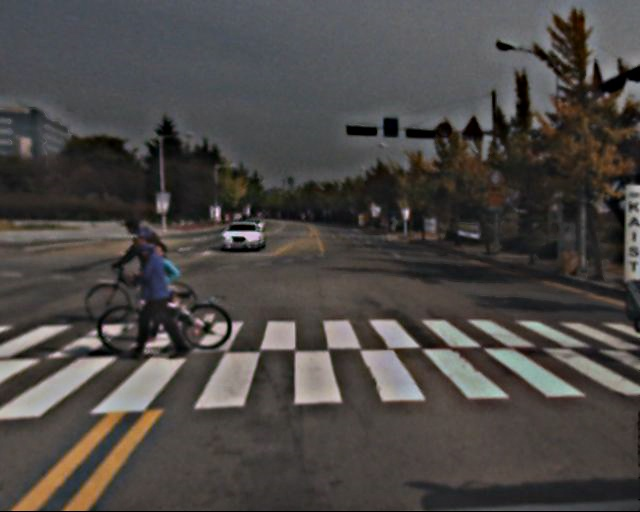person: (128, 217, 191, 361)
